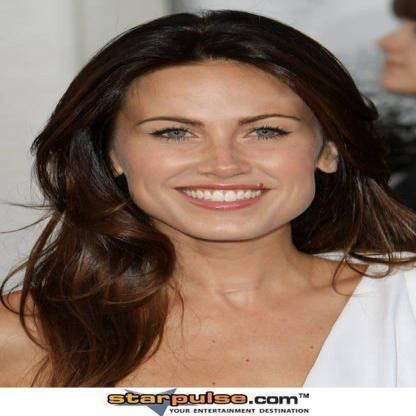long-hair: (10, 239, 401, 280)
